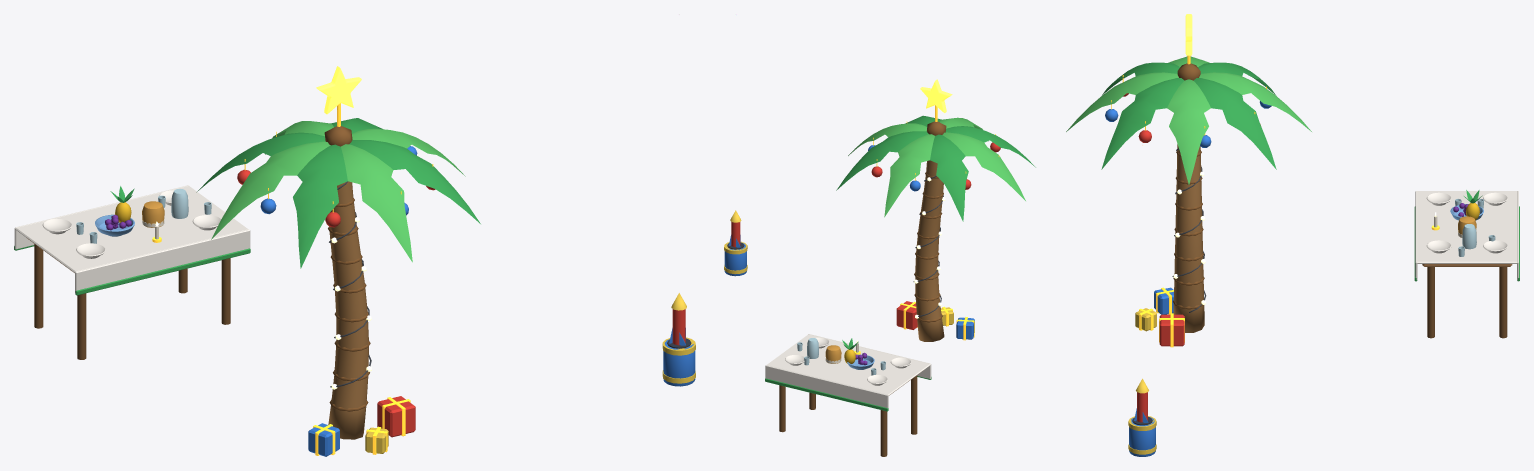
File: fim-de-ano.glb
3 renders of one model, left to right at view 1: azimuth 30°, elevation 25°; view 2: azimuth 150°, elevation 25°; view 3: azimuth 270°, elevation 25°, orthographic. The views are drawn at different scales.
Visible parts, largest first — view 1: palmeira-enfeitada, mesa-da-ceia, fogos, foguete; view 2: palmeira-enfeitada, mesa-da-ceia, fogos, foguete; view 3: palmeira-enfeitada, mesa-da-ceia, fogos, foguete.
Part boxes in pixels (x1,y1,x2,y2): palmeira-enfeitada: (196, 66, 480, 456); mesa-da-ceia: (14, 185, 250, 359); fogos: (662, 337, 695, 386); foguete: (669, 293, 686, 345); palmeira-enfeitada: (836, 79, 1035, 341); mesa-da-ceia: (765, 334, 931, 456); fogos: (724, 241, 747, 276); foguete: (728, 210, 741, 247); palmeira-enfeitada: (1066, 14, 1311, 347); mesa-da-ceia: (1414, 190, 1519, 338); fogos: (1128, 416, 1156, 456); foguete: (1134, 378, 1148, 422).
Bounding box in the file's own units: 3.91 × 3.03 × 4.04.
